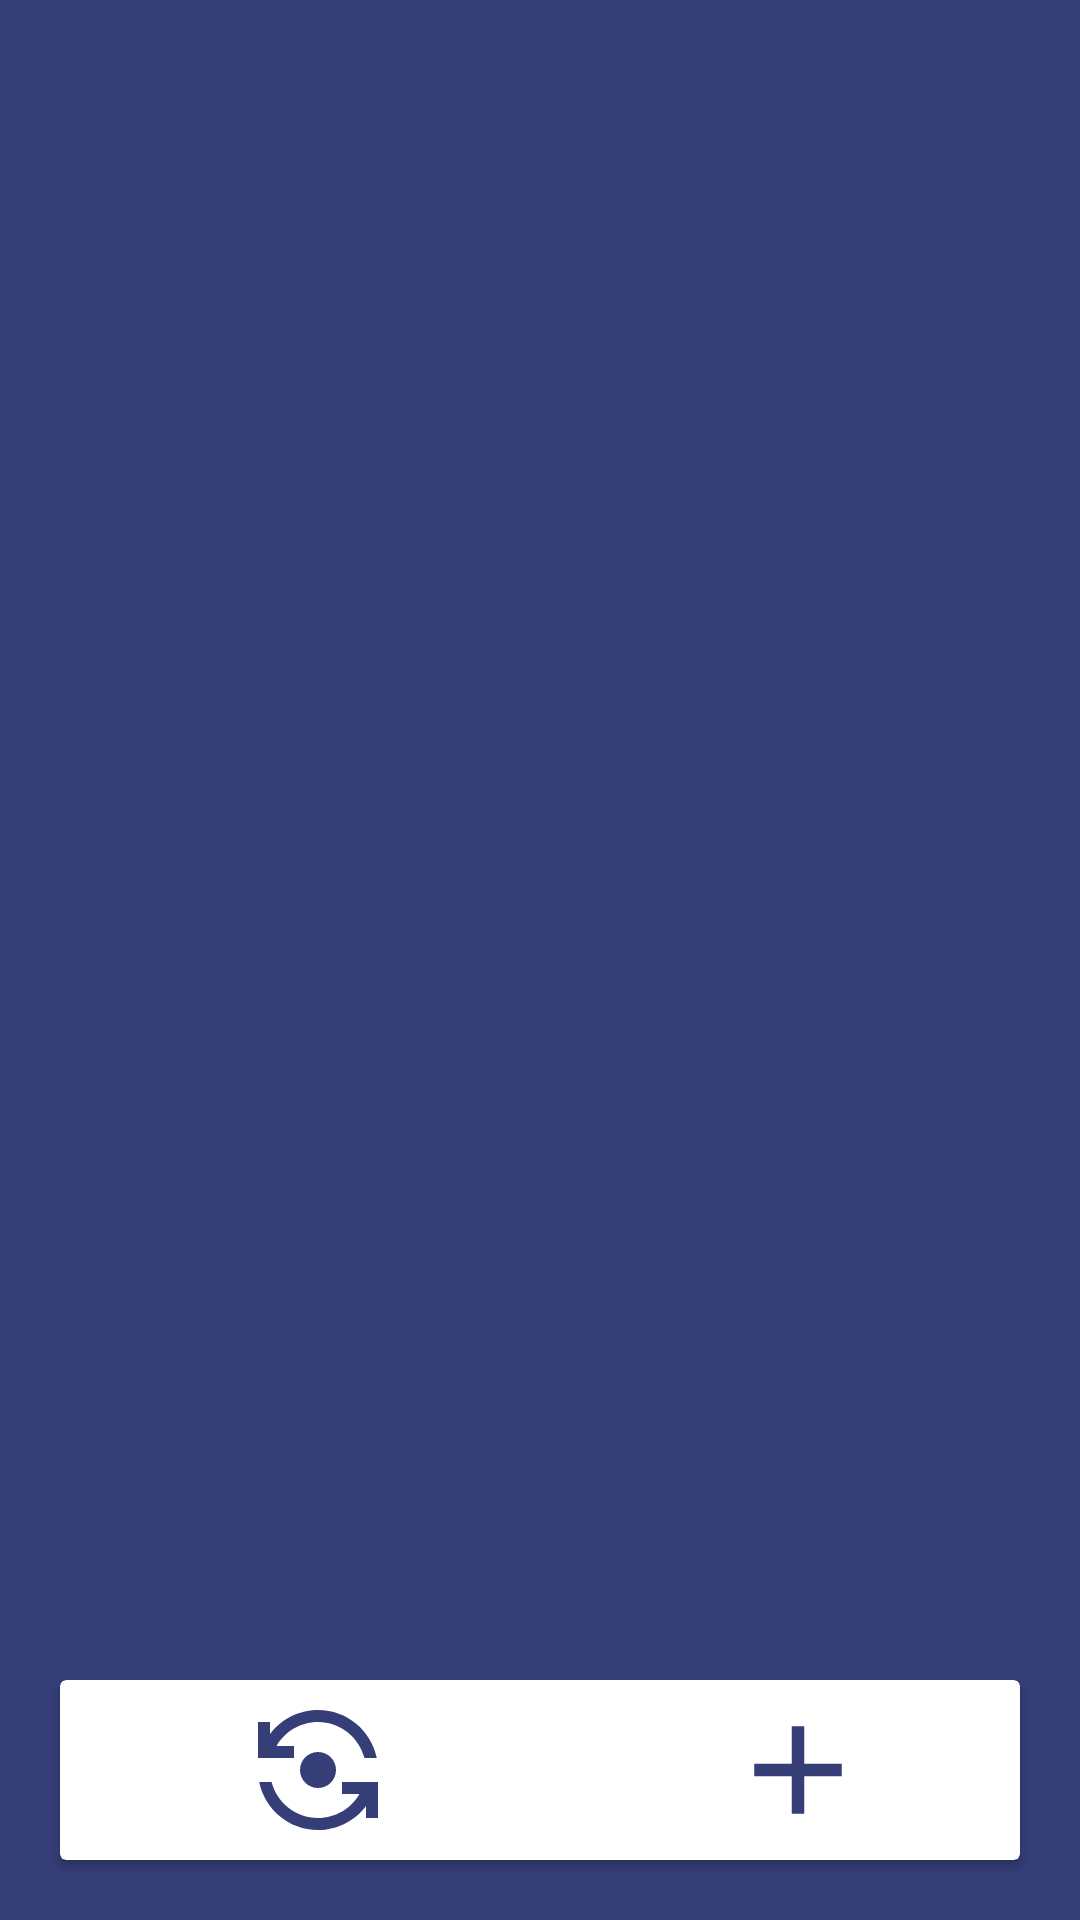

Locate icon controls on the screen. Image size 1080w x 1920h, boxes as (x1, y1, x2, y2).
Add face: (754, 1726, 842, 1814)
Flip camera: (258, 1710, 378, 1830)
